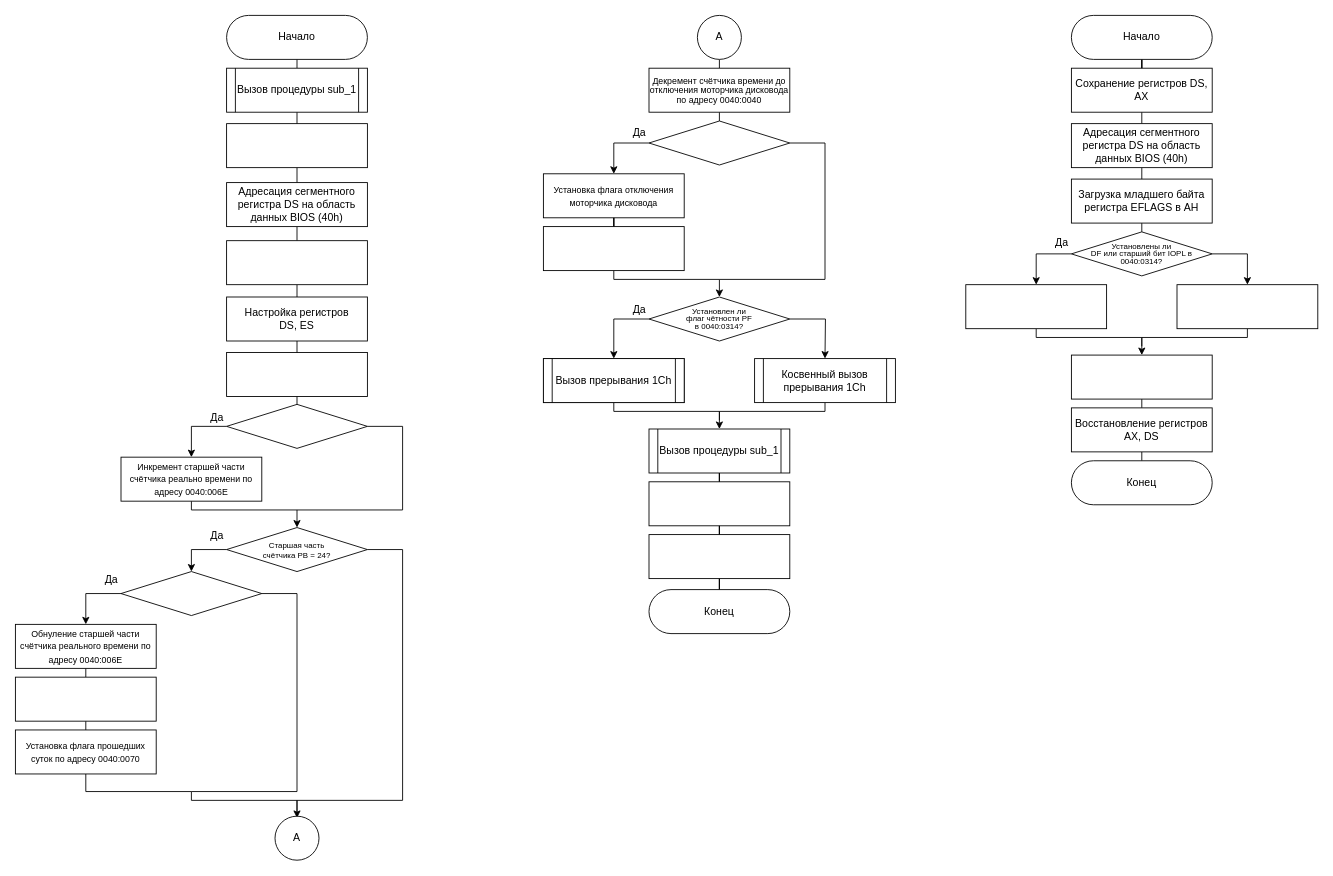
The diagram is 1333 pixels wide and 876 high, and some of its shapes have lost their labels. Here are the shapes that lost their labels. From the top down, the box of each, then its label:
(226, 123, 367, 168): Сохранение регистров ES, DS, AX, DX
(648, 120, 790, 165): Счётчик задержки = 0?
(226, 240, 367, 285): Адресация сегментного регистра ES на IDT (нулевой адрес)
(543, 226, 684, 271): Отправка команды отключения OCh в порт дисковода 3F2h
(965, 284, 1107, 329): Запрет маскируемых прерываний инструкцией cli
(1176, 284, 1318, 329): Сброс флага разрешения прерывания IF в 0040:0314
(226, 352, 367, 396): Инкремент младшей части счётчика реального времени по адресу 0040:006C
(1071, 354, 1212, 399): Загрузка AH в младший байт регистра EFLAGS
(226, 403, 367, 448): Младшая часть счётчика РВ = 0?
(648, 481, 790, 526): Сброс контроллера прерываний записью 20h в порт 20h
(648, 534, 790, 579): Восстановление регистров DX, AX, DS, ES
(120, 571, 262, 616): Младшая часть счётчика РВ = 176?
(15, 676, 156, 721): Обнуление младшей части счётчика реального времени по адресу 0040:006C
